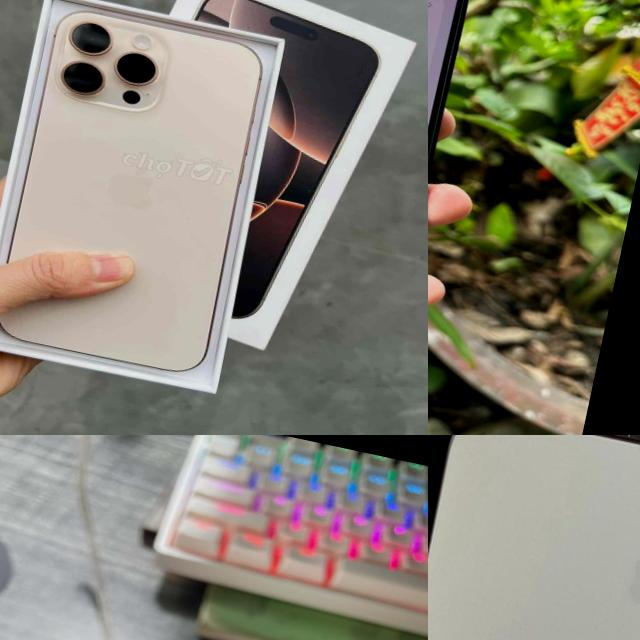gen_12_13: (428, 0, 504, 377)
gen_16: (0, 0, 281, 395), (428, 435, 640, 640)
